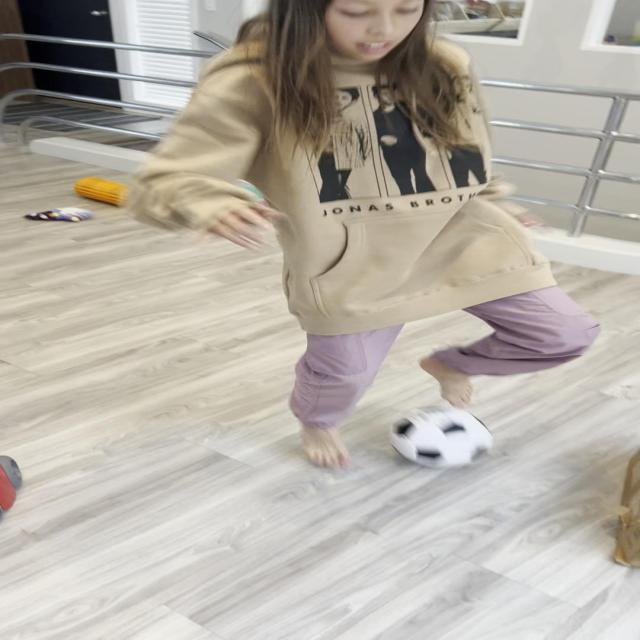Soccer Ball: (385, 406, 496, 469)
